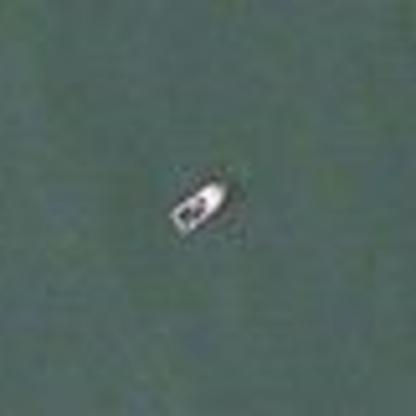ship: (161, 169, 241, 242)
